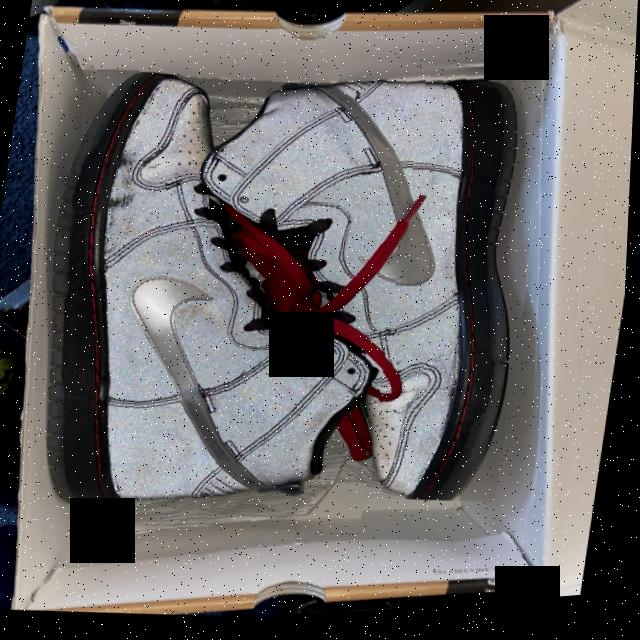shoe: (7, 34, 430, 558), (150, 29, 563, 530)
